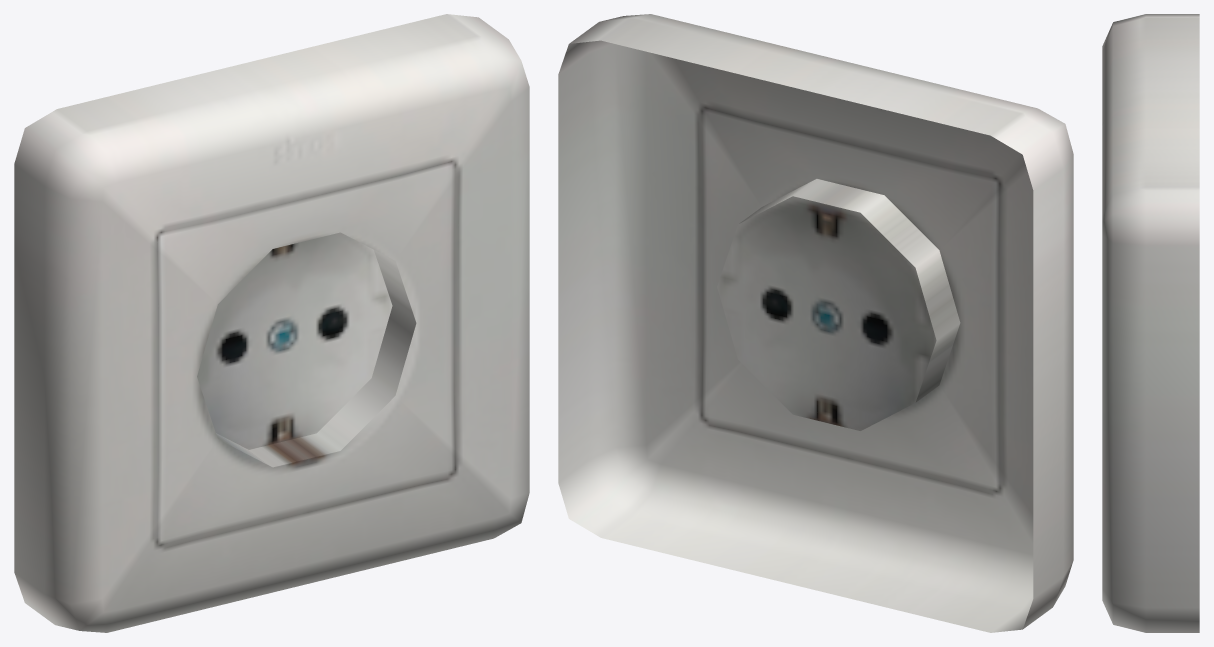
File: 3D004_Office_Plug.FBX
3 views of the same model, side by side, from view 1: azimuth 30°, elevation 25°; view 2: azimuth 150°, elevation 25°; view 3: azimuth 270°, elevation 25° (orthographic). The views are drawn at different scales.
Parts seen in each view (by area): view 1: 3D004_Office_Plug; view 2: 3D004_Office_Plug; view 3: 3D004_Office_Plug.
Boxes of the visible parts, bbox=[...] form: 3D004_Office_Plug: bbox=[14, 14, 529, 632]; 3D004_Office_Plug: bbox=[558, 14, 1073, 632]; 3D004_Office_Plug: bbox=[1102, 14, 1199, 632].
Size of the model in its own units: 10 by 10 by 2.
